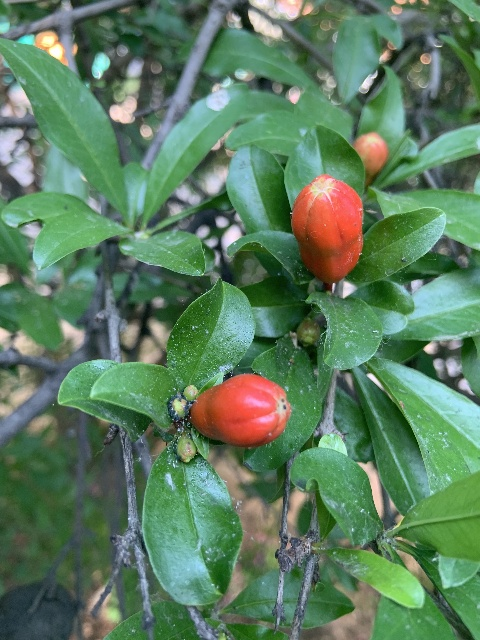bud: (291, 174, 363, 283), (191, 373, 290, 447), (352, 132, 388, 186), (295, 317, 320, 346)
